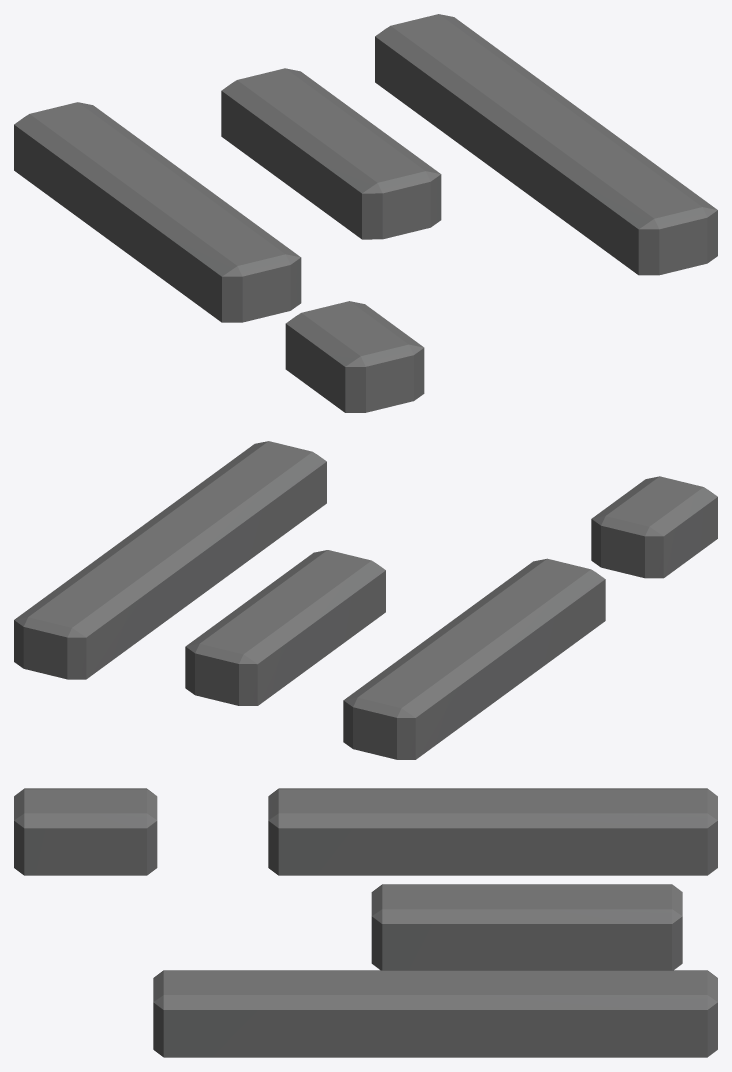
Rendered from Signs_2_3.glb.
The picture shows the model from 3 angles, top to bottom: view 1: azimuth 30°, elevation 25°; view 2: azimuth 150°, elevation 25°; view 3: azimuth 270°, elevation 25°; orthographic projection. The views are drawn at different scales.
Visible parts, largest first — view 1: Signs_2_3; view 2: Signs_2_3; view 3: Signs_2_3.
Part boxes in pixels (bbox=[...]): Signs_2_3: bbox=[14, 14, 717, 412]; Signs_2_3: bbox=[14, 441, 717, 759]; Signs_2_3: bbox=[14, 788, 717, 1057].
Size of the model in its own units: 0.2888 by 0.0331 by 0.3877.
Materials: 1 (1 with a texture image).
